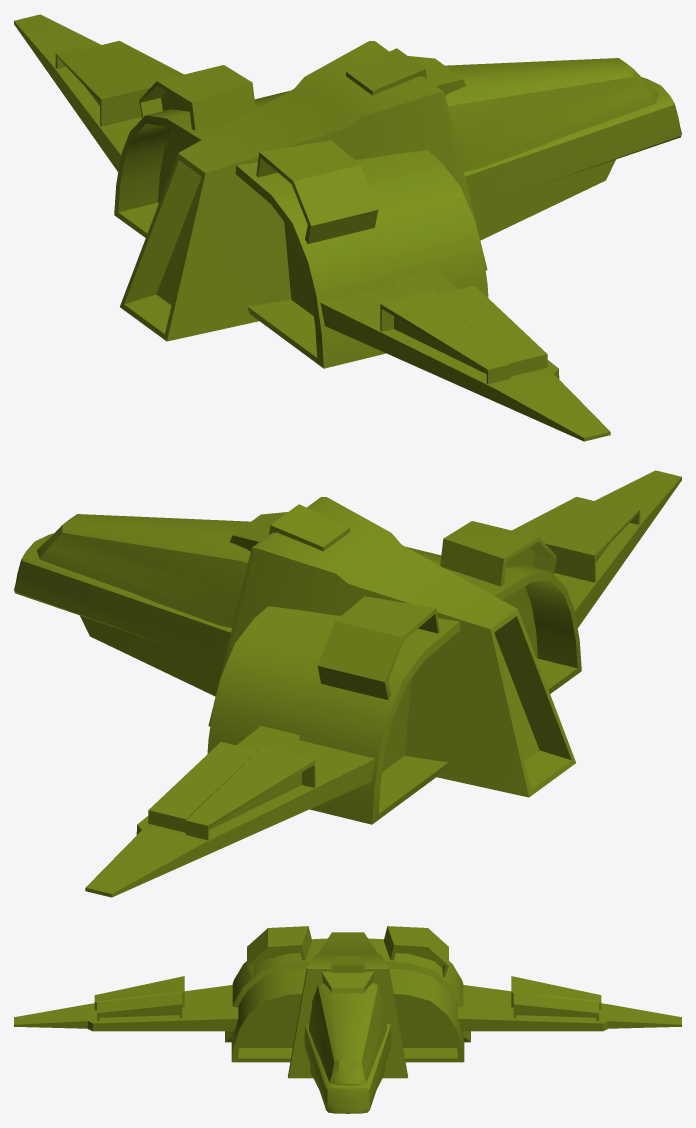
The model's file is EnemyTypeBaiter.obj.
The picture shows the model from 3 angles, top to bottom: view 1: azimuth 30°, elevation 25°; view 2: azimuth 150°, elevation 25°; view 3: azimuth 270°, elevation 25°; orthographic projection. The views are drawn at different scales.
Parts seen in each view (by area): view 1: EnemyTypeBaiter_Baiter; view 2: EnemyTypeBaiter_Baiter; view 3: EnemyTypeBaiter_Baiter.
Boxes of the visible parts, bbox=[...] form: EnemyTypeBaiter_Baiter: bbox=[14, 14, 681, 441]; EnemyTypeBaiter_Baiter: bbox=[14, 470, 681, 897]; EnemyTypeBaiter_Baiter: bbox=[14, 926, 681, 1113].
Size of the model in its own units: 0.5612 by 0.2035 by 1.05.
